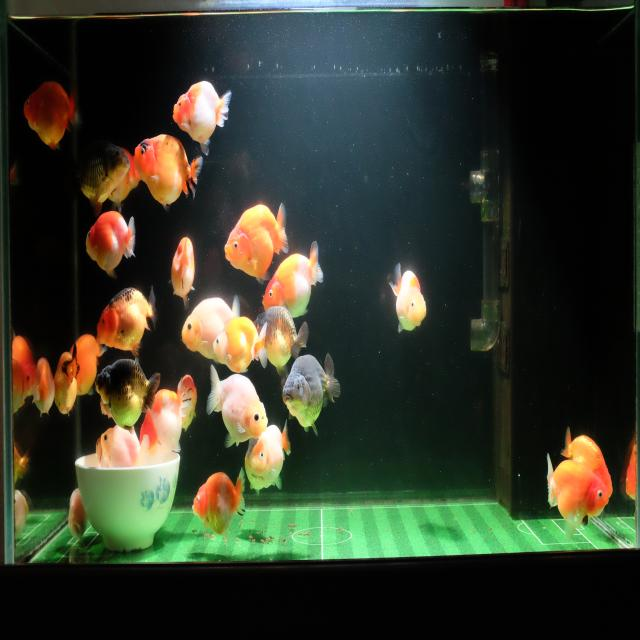Goldfish: (545, 449, 610, 543), (68, 127, 130, 219), (223, 199, 289, 285), (133, 132, 203, 213), (206, 361, 268, 449), (281, 349, 341, 439), (94, 356, 161, 436), (172, 76, 232, 161), (261, 239, 325, 315), (22, 77, 85, 152), (138, 378, 194, 459), (178, 289, 240, 362), (190, 462, 247, 540), (96, 285, 159, 355), (252, 302, 310, 375), (560, 423, 612, 502), (84, 206, 135, 281), (211, 316, 269, 374), (248, 417, 291, 491), (388, 259, 428, 335), (108, 140, 142, 215), (100, 424, 151, 473), (69, 331, 107, 396), (168, 233, 199, 310), (54, 339, 80, 423), (11, 328, 37, 402), (31, 353, 55, 422), (174, 371, 199, 434), (93, 434, 109, 472)
